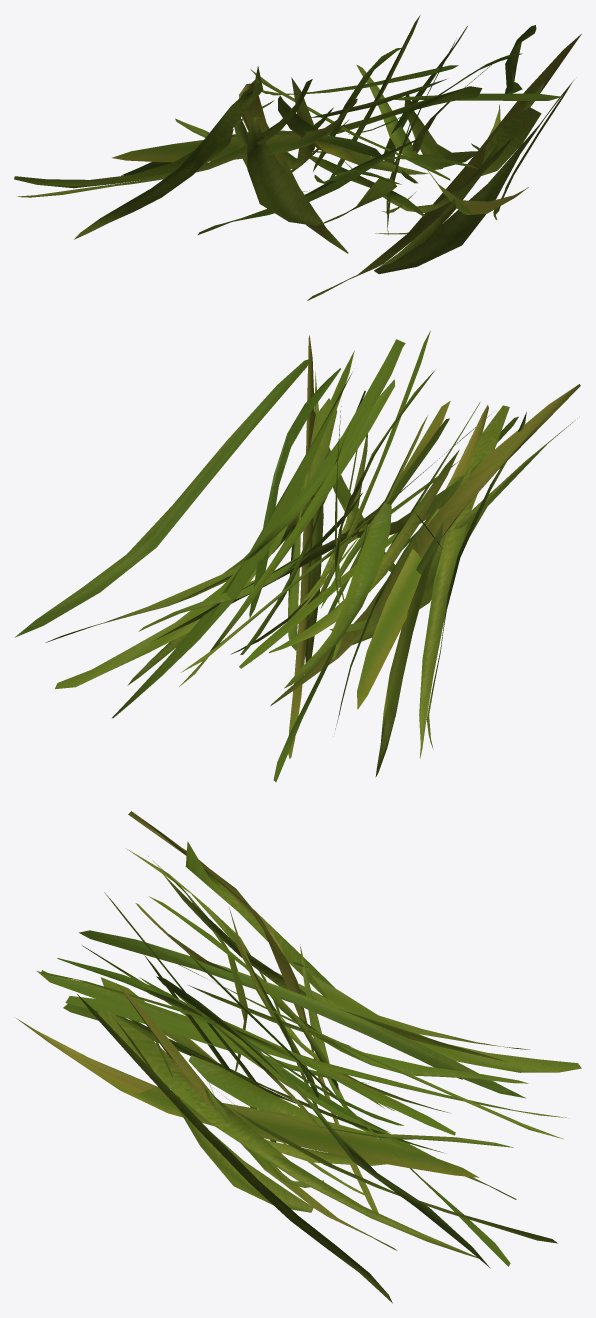
The model's file is Lawn_Mowed_03.glb.
The picture shows the model from 3 angles, top to bottom: view 1: azimuth 30°, elevation 25°; view 2: azimuth 150°, elevation 25°; view 3: azimuth 270°, elevation 25°; orthographic projection. The views are drawn at different scales.
Parts seen in each view (by area): view 1: Lawn_Mowed_03; view 2: Lawn_Mowed_03; view 3: Lawn_Mowed_03.
Boxes of the visible parts, bbox=[...] form: Lawn_Mowed_03: bbox=[14, 15, 581, 300]; Lawn_Mowed_03: bbox=[15, 330, 580, 782]; Lawn_Mowed_03: bbox=[16, 811, 581, 1303].
Bounding box in the file's own units: 0.0536 × 0.04 × 0.0575.
Materials: 1 (1 with a texture image).
